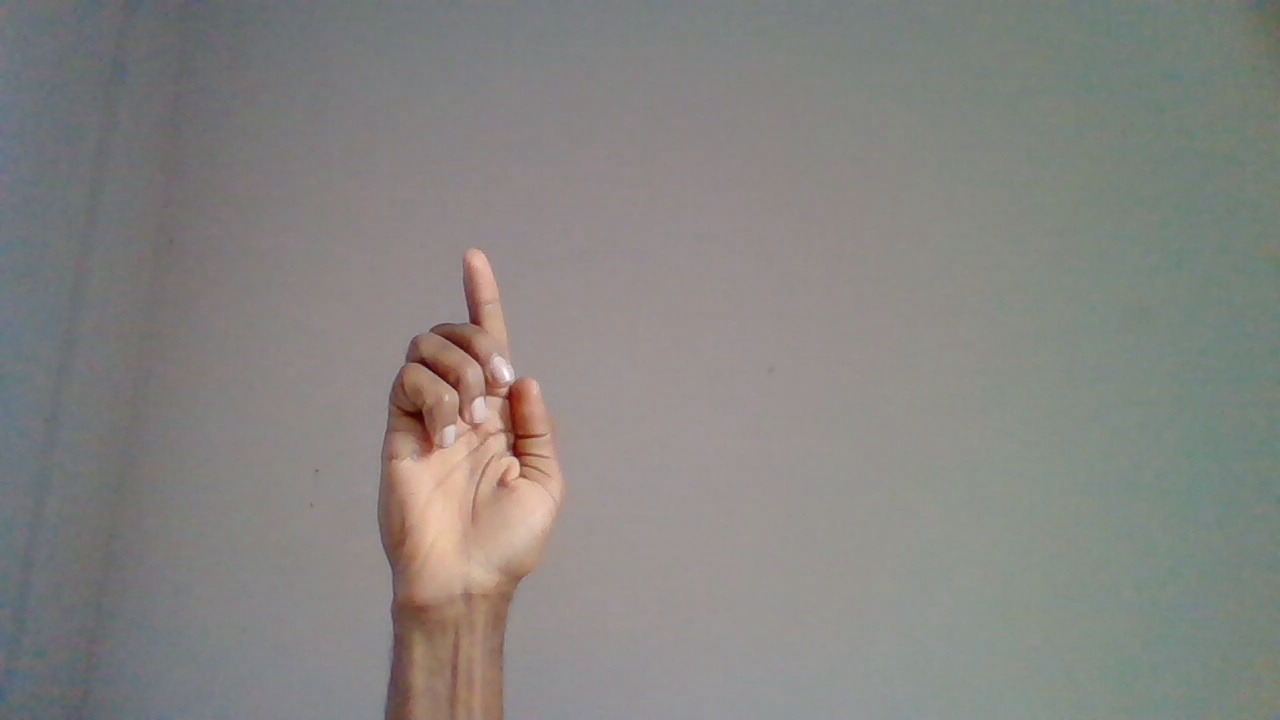qe: (374, 249, 569, 651)
